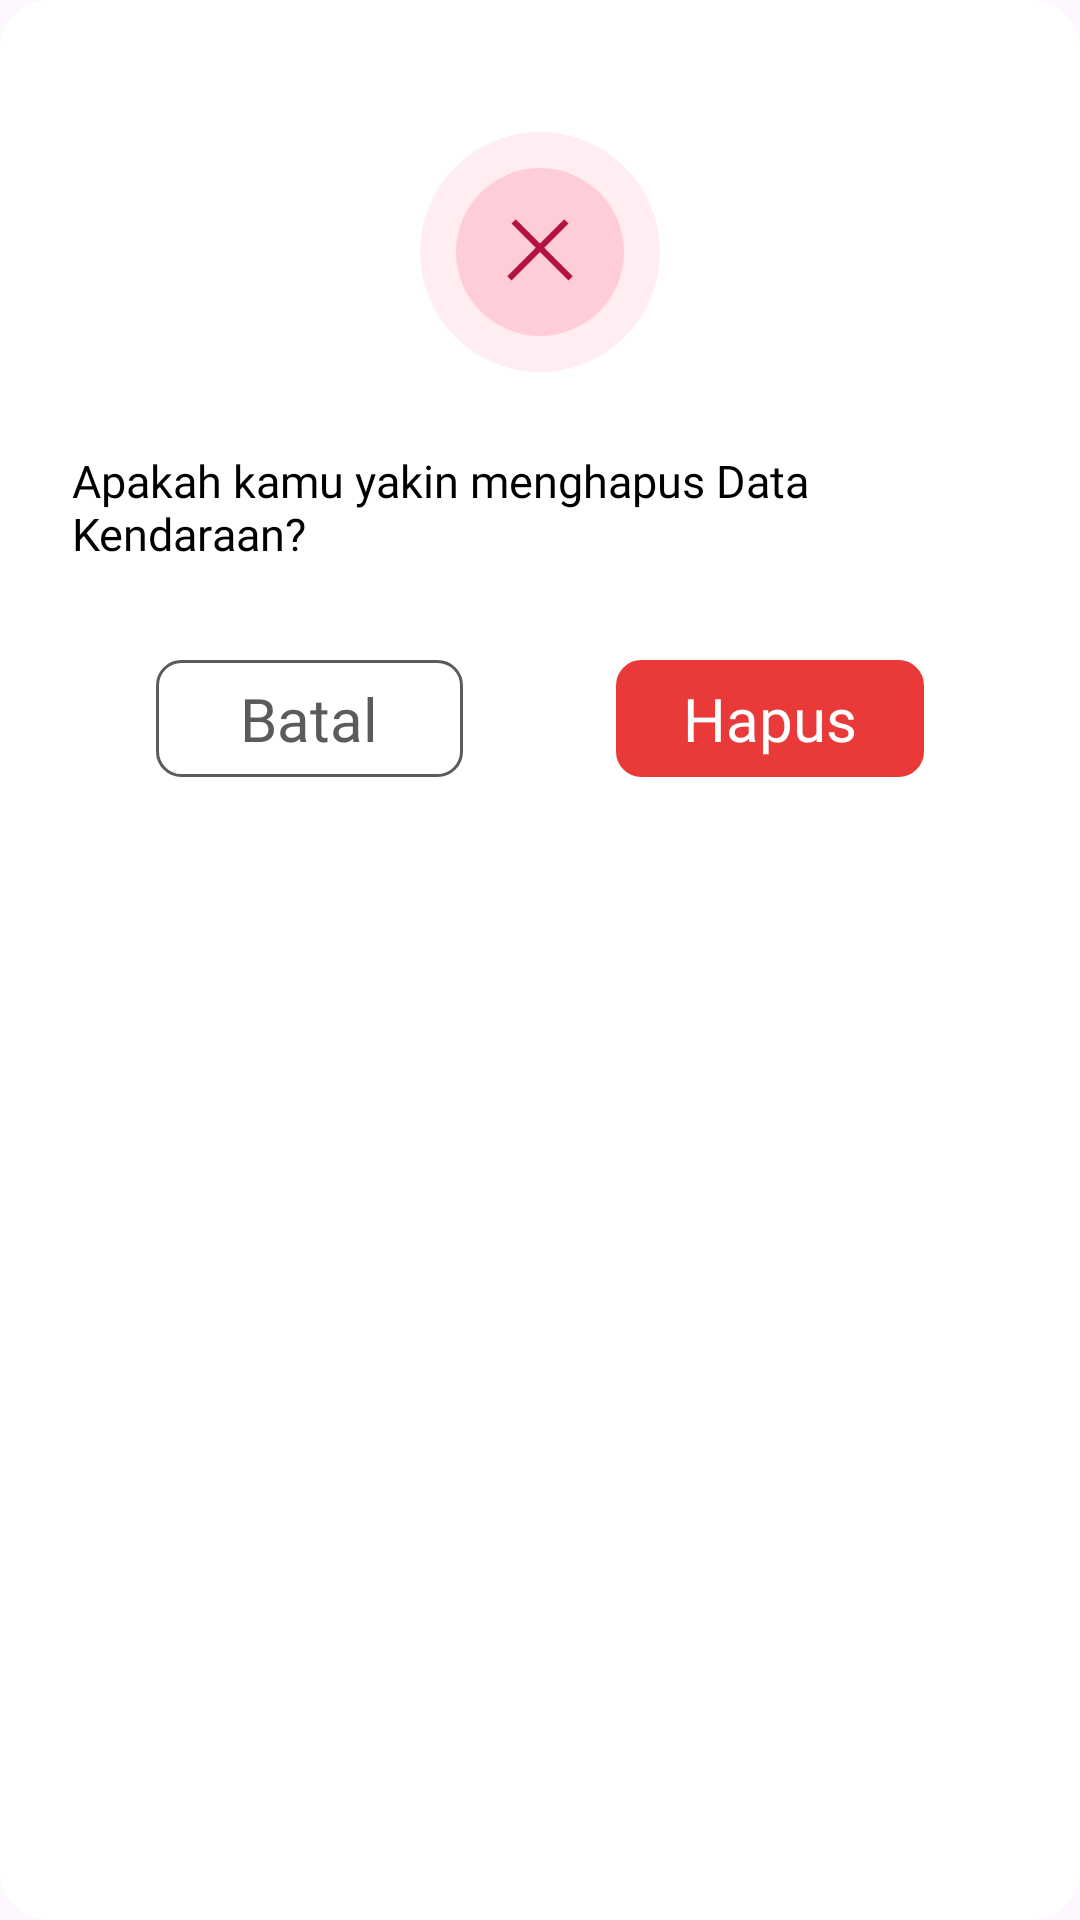

Where to tap for icons on this 1080w x 1920h app screen, as (x,y):
popup gagal: (540,252)
